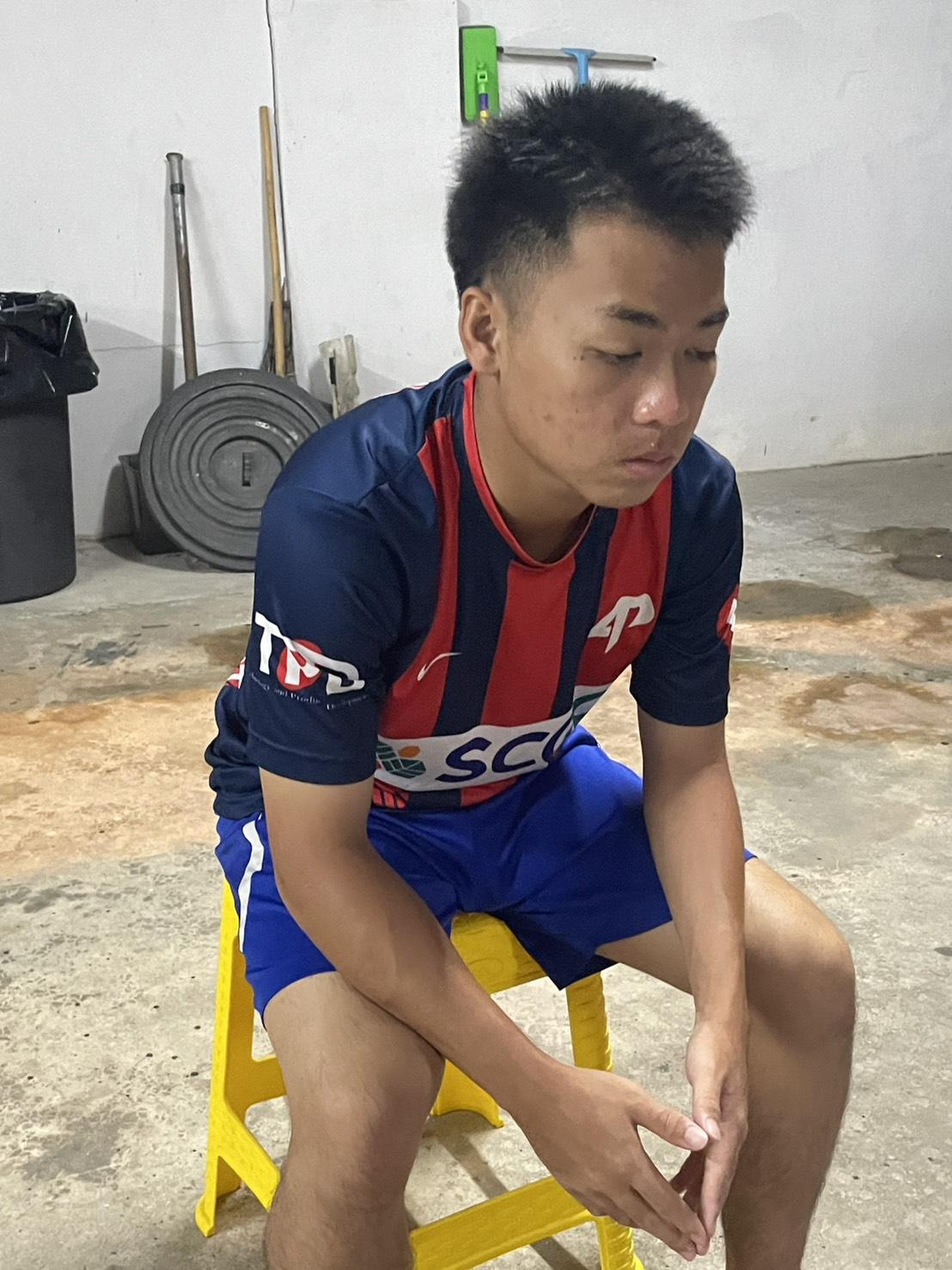BadPosture: (236, 83, 751, 812)
